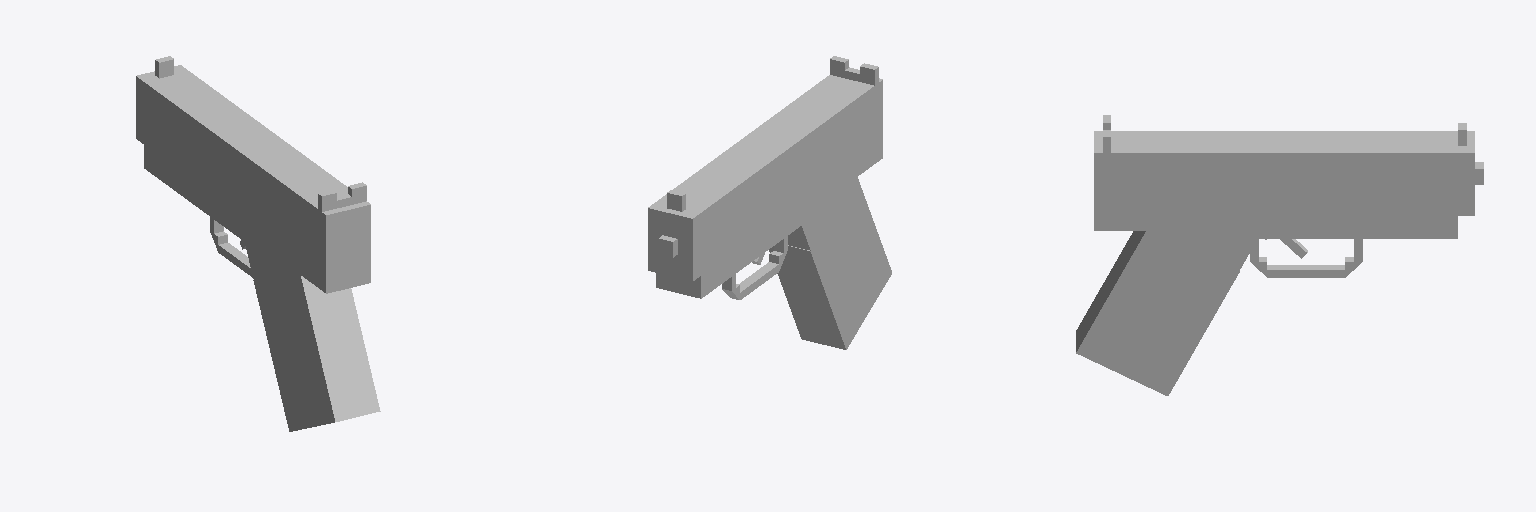
File: BetterVersion1.obj
The picture shows the model from 3 angles: view 1: azimuth 30°, elevation 25°; view 2: azimuth 150°, elevation 25°; view 3: azimuth 270°, elevation 25°; orthographic projection.
Parts seen in each view (by area): view 1: Model1.001; view 2: Model1.001; view 3: Model1.001.
Boxes of the visible parts, x1=… form: Model1.001: x1=136, y1=56, x2=380, y2=431; Model1.001: x1=648, y1=56, x2=891, y2=349; Model1.001: x1=1076, y1=115, x2=1483, y2=395.
Size of the model in its own units: 0.4325 by 2.38 by 3.4.